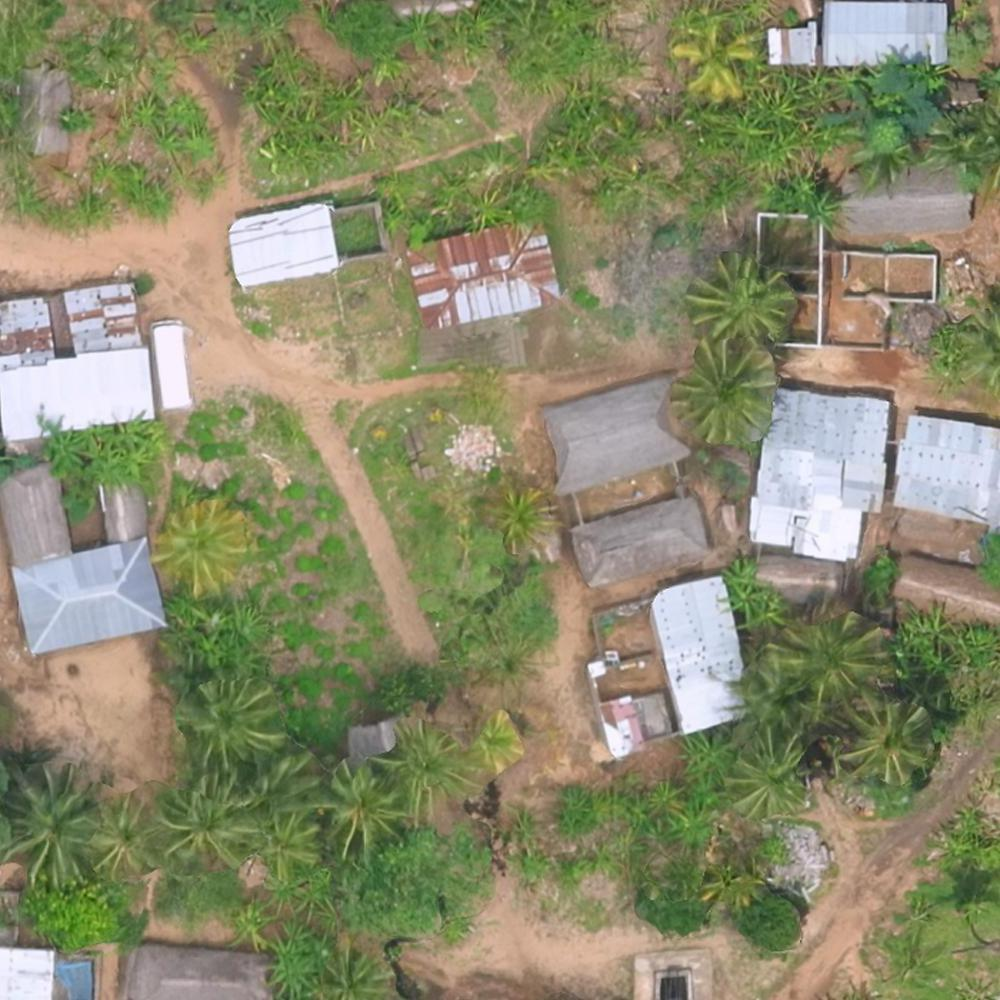Palm: (4, 764, 99, 877), (775, 611, 884, 699), (690, 246, 790, 341), (843, 695, 942, 790), (680, 338, 769, 441), (182, 676, 282, 764), (153, 499, 245, 594), (159, 781, 251, 865), (318, 758, 404, 846), (387, 719, 469, 809), (671, 22, 757, 102), (88, 794, 161, 874), (734, 736, 810, 811), (492, 483, 561, 548)
